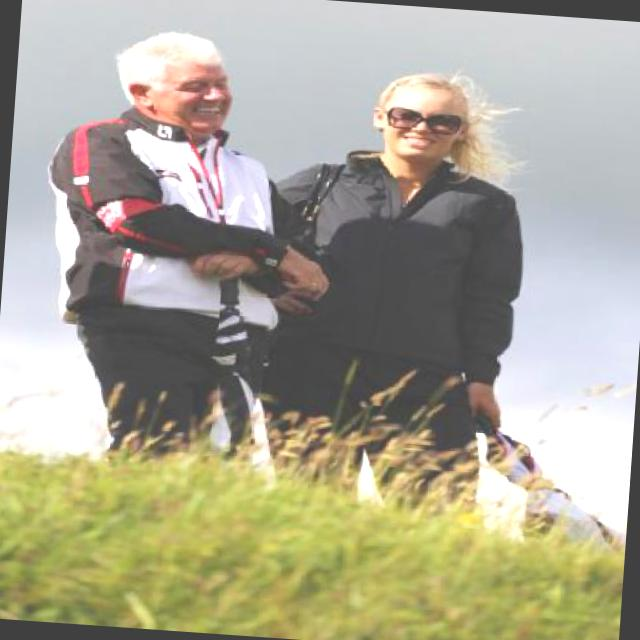Person: (230, 33, 584, 550), (0, 0, 345, 517)
